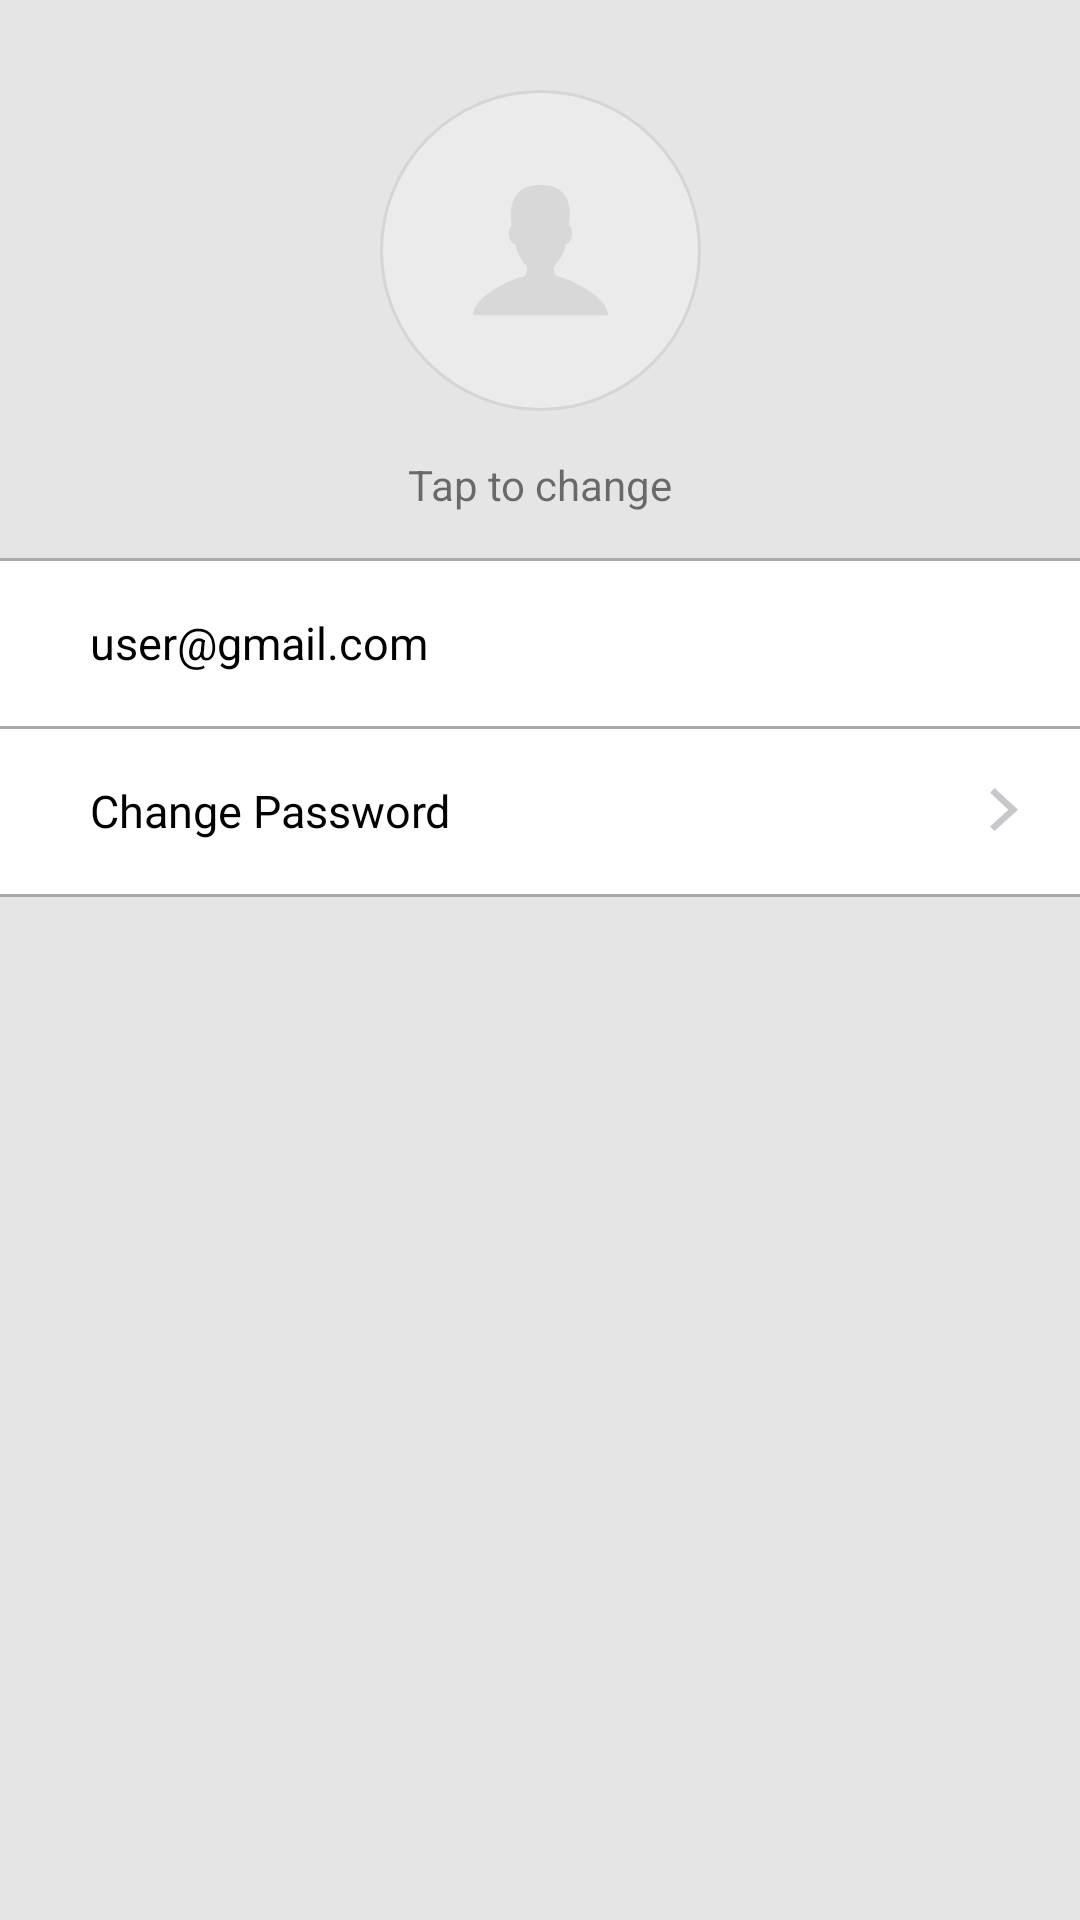

Where to tap for icons on this 1080×1920 app screen, as (x=x, y=y):
chevron: (x=1004, y=809)
